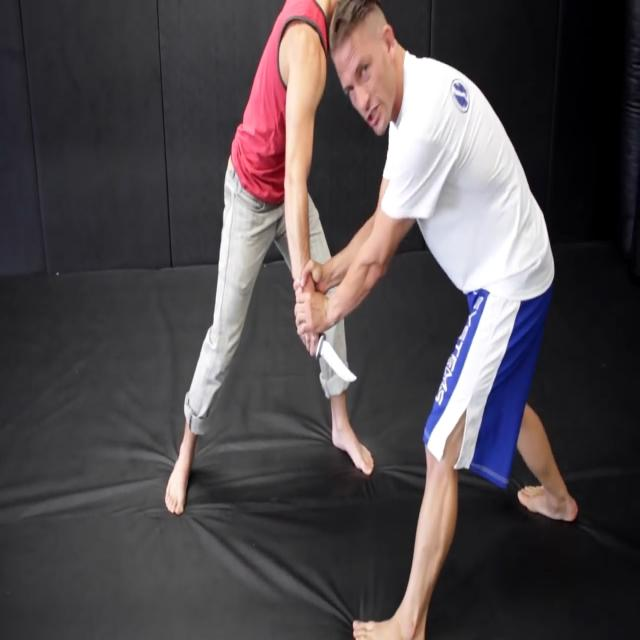knife: (318, 332, 363, 388)
